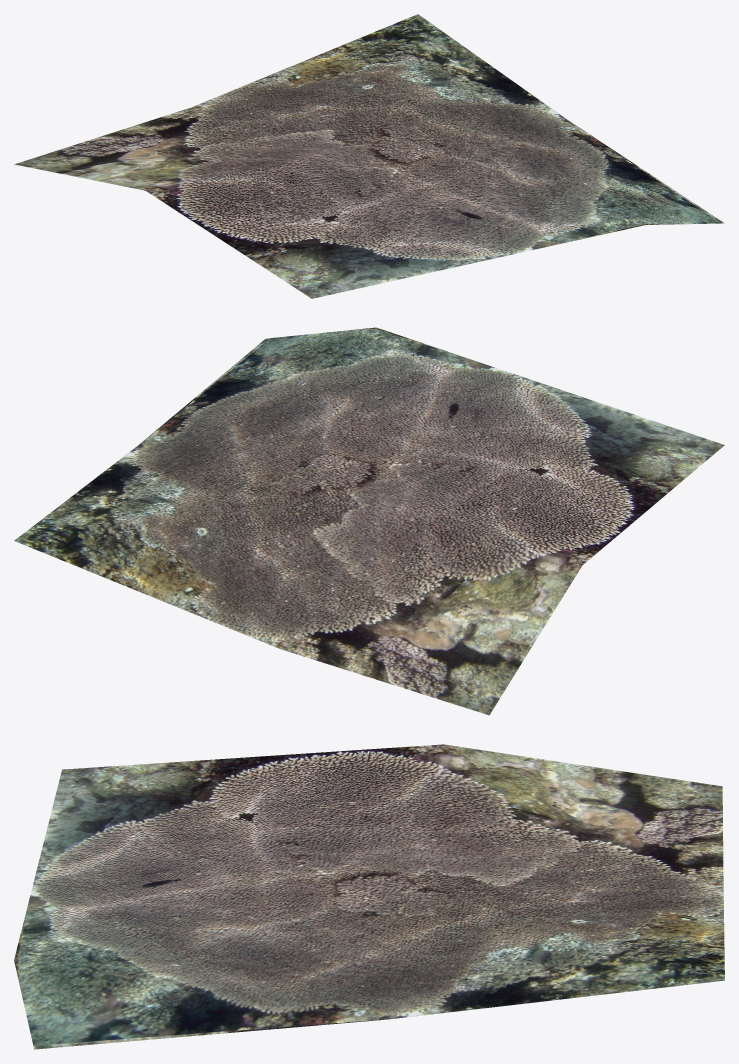
The model's file is Coral_B.fbx.
The picture shows the model from 3 angles, top to bottom: view 1: azimuth 30°, elevation 25°; view 2: azimuth 150°, elevation 25°; view 3: azimuth 270°, elevation 25°; orthographic projection. The views are drawn at different scales.
Parts seen in each view (by area): view 1: Coral_B; view 2: Coral_B; view 3: Coral_B.
Part boxes in pixels (x1,y1,x2,y2): Coral_B: [14, 14, 724, 298]; Coral_B: [14, 327, 724, 715]; Coral_B: [14, 744, 724, 1049].
Size of the model in its own units: 2.14 by 0.2308 by 2.21.
1 material, 1 textured.
